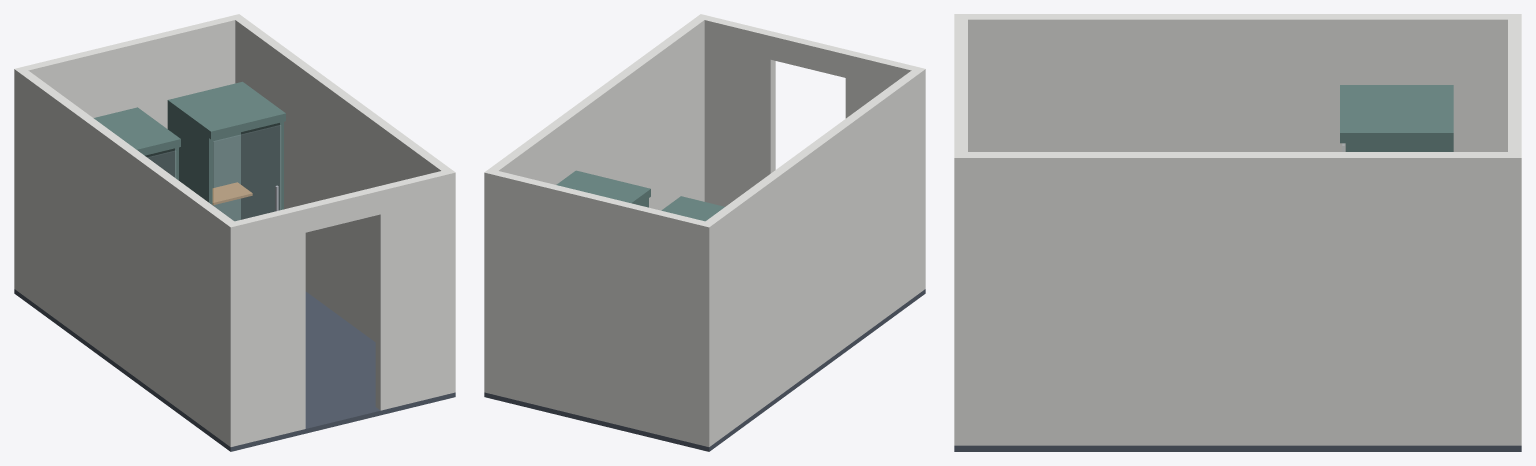
3 renders of one model, left to right at view 1: azimuth 30°, elevation 25°; view 2: azimuth 150°, elevation 25°; view 3: azimuth 270°, elevation 25°, orthographic. The views are drawn at different scales.
Parts seen in each view (by area): view 1: office_wall, felt_divider, office_carpet, glass_clear, oak; view 2: office_wall, felt_divider, office_carpet; view 3: office_wall, felt_divider, office_carpet.
Boxes of the visible parts, x1,y1,x2,y2 form: office_wall: (14,14,455,446); felt_divider: (93,81,285,221); office_carpet: (14,289,455,451); glass_clear: (148,125,280,220); oak: (212,182,252,205); office_wall: (484,14,925,446); felt_divider: (556,170,724,221); office_carpet: (484,289,925,451); office_wall: (954,14,1521,445); felt_divider: (1340,85,1453,151); office_carpet: (954,445,1521,451).
Bounding box in the file's own units: 3 × 2.86 × 5.
